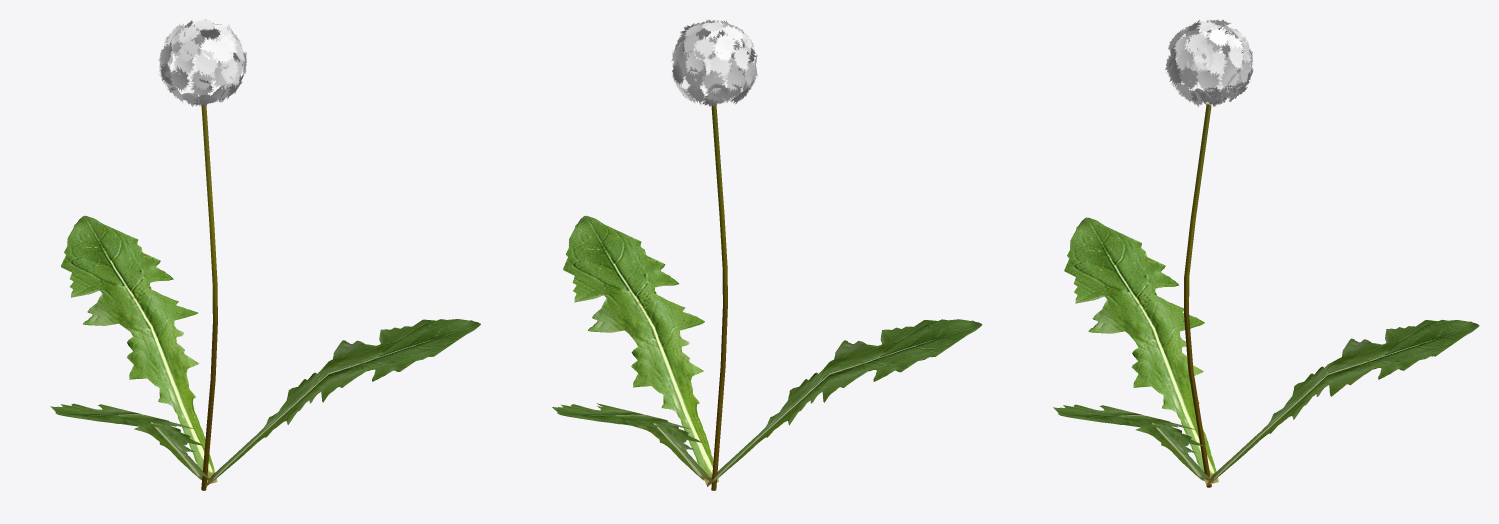
File: Dandelion_Test1.FBX
3 views of the same model, side by side, from view 1: azimuth 30°, elevation 25°; view 2: azimuth 150°, elevation 25°; view 3: azimuth 270°, elevation 25° (orthographic).
Parts seen in each view (by area): view 1: DandelionPuff_GEO; view 2: DandelionPuff_GEO; view 3: DandelionPuff_GEO.
Part boxes in pixels (x1,y1,x2,y2): DandelionPuff_GEO: [50, 19, 480, 490]; DandelionPuff_GEO: [552, 19, 982, 490]; DandelionPuff_GEO: [1053, 19, 1479, 487].
Bounding box in the file's own units: 207 × 179 × 196.
